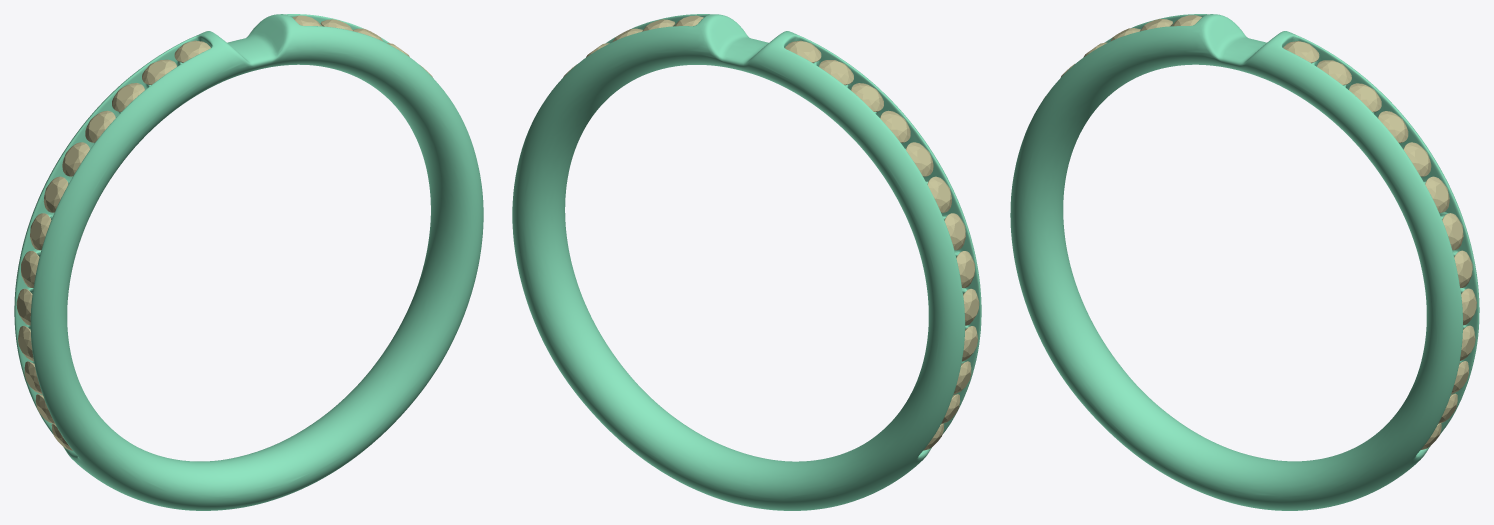
3 renders of one model, left to right at view 1: azimuth 30°, elevation 25°; view 2: azimuth 150°, elevation 25°; view 3: azimuth 330°, elevation 25°, orthographic.
Parts seen in each view (by area): view 1: Metal02, Diamond_Gem.018, Diamond_Gem.019, Diamond_Gem.017, Diamond_Gem.016, Diamond_Gem.020, Diamond_Gem.015; view 2: Metal02, Diamond_Gem.018, Diamond_Gem.017, Diamond_Gem.019, Diamond_Gem.016, Diamond_Gem.020, Diamond_Gem.015; view 3: Metal02, Diamond_Gem.008, Diamond_Gem.007, Diamond_Gem.009, Diamond_Gem.010, Diamond_Gem.006, Diamond_Gem.011.
Boxes of the visible parts, <box> form: Metal02: <box>14,14,483,510</box>; Diamond_Gem.018: <box>62,142,89,176</box>; Diamond_Gem.019: <box>43,176,68,212</box>; Diamond_Gem.017: <box>85,110,115,142</box>; Diamond_Gem.016: <box>112,83,144,111</box>; Diamond_Gem.020: <box>30,213,51,250</box>; Diamond_Gem.015: <box>142,59,176,84</box>; Metal02: <box>512,14,981,510</box>; Diamond_Gem.018: <box>906,142,933,176</box>; Diamond_Gem.017: <box>880,110,910,142</box>; Diamond_Gem.019: <box>927,176,951,212</box>; Diamond_Gem.016: <box>851,83,883,111</box>; Diamond_Gem.020: <box>944,213,965,250</box>; Diamond_Gem.015: <box>819,60,853,84</box>; Metal02: <box>1010,14,1479,510</box>; Diamond_Gem.008: <box>1403,142,1431,176</box>; Diamond_Gem.007: <box>1425,176,1449,212</box>; Diamond_Gem.009: <box>1378,111,1408,142</box>; Diamond_Gem.010: <box>1349,83,1381,112</box>; Diamond_Gem.006: <box>1442,213,1463,250</box>; Diamond_Gem.011: <box>1317,60,1351,85</box>.
Size of the model in its own units: 21.13 by 21.15 by 2.48.
